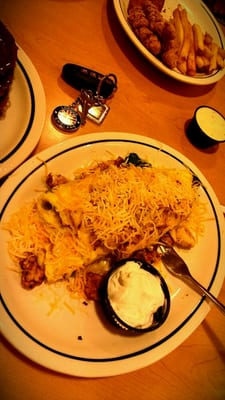sushi: (113, 0, 225, 86)
